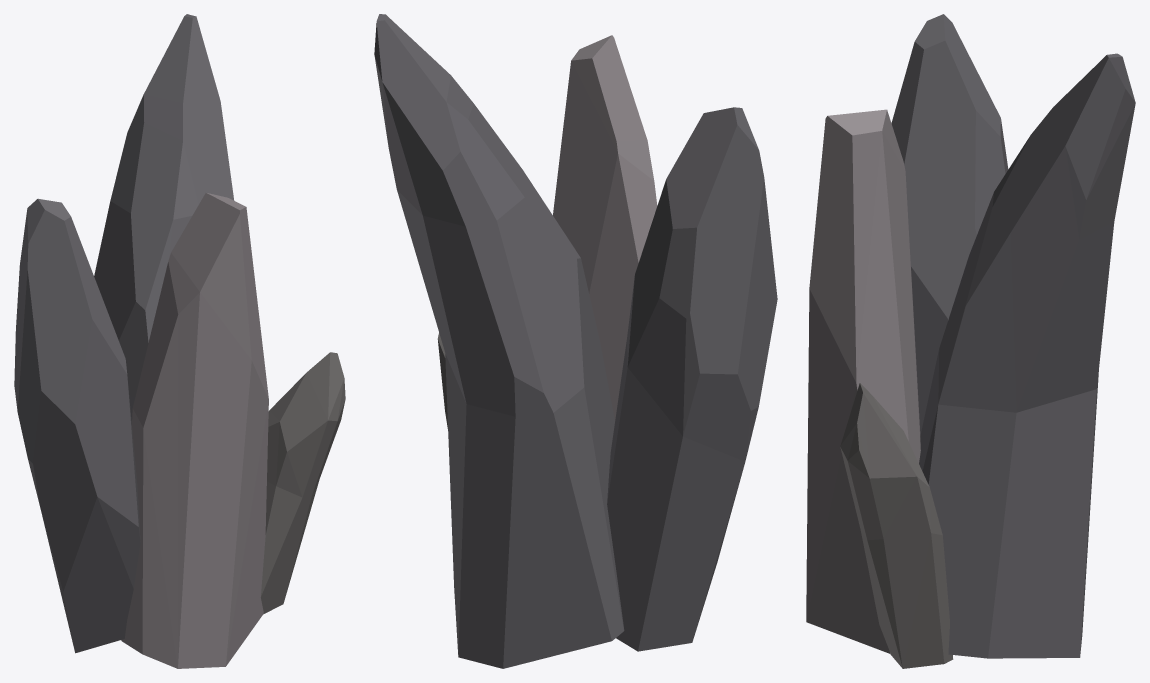
File: Rocks_Sharp_l_03.fbx
3 views of the same model, side by side, from view 1: azimuth 30°, elevation 25°; view 2: azimuth 150°, elevation 25°; view 3: azimuth 270°, elevation 25° (orthographic). The views are drawn at different scales.
Visible parts, largest first — view 1: Rocks_Sharp_l_03; view 2: Rocks_Sharp_l_03; view 3: Rocks_Sharp_l_03.
Boxes of the visible parts, left/top/right/bottom form: Rocks_Sharp_l_03: left=14, top=14, right=345, bottom=668; Rocks_Sharp_l_03: left=374, top=14, right=777, bottom=668; Rocks_Sharp_l_03: left=806, top=14, right=1135, bottom=668.
Bounding box in the file's own units: 3.06 × 5.45 × 2.58.
